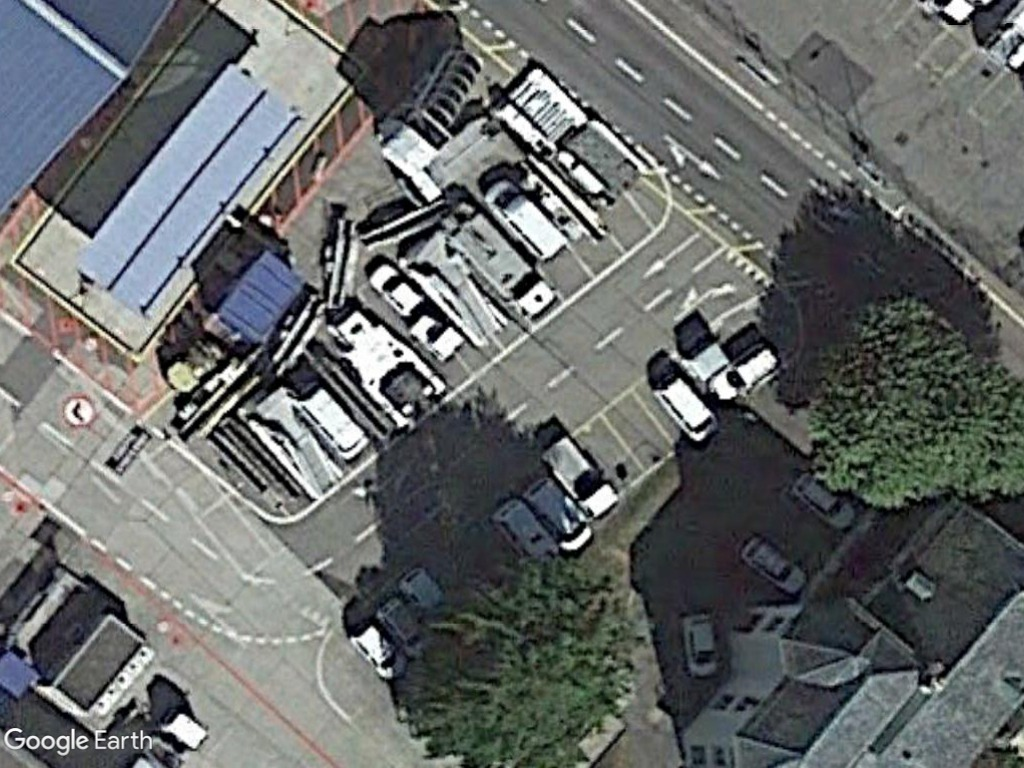car: (705, 340, 784, 404), (736, 532, 810, 596), (679, 606, 725, 681)
pushback: (330, 305, 449, 434)
stairtruck: (247, 391, 343, 502)
van: (652, 369, 720, 446)
